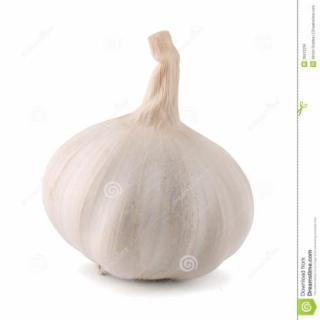Bawang Putih: (42, 116, 256, 282)
